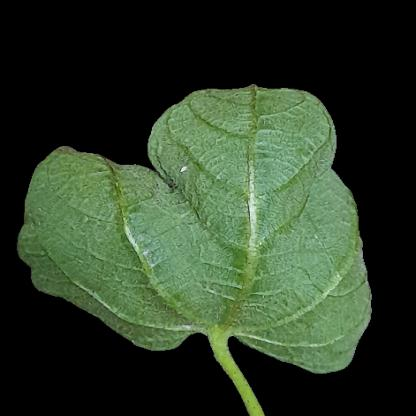curl_stage2: (57, 179, 250, 295), (256, 210, 358, 360), (198, 101, 307, 190), (129, 297, 257, 342), (49, 156, 129, 220), (307, 125, 344, 213), (156, 114, 201, 175)
